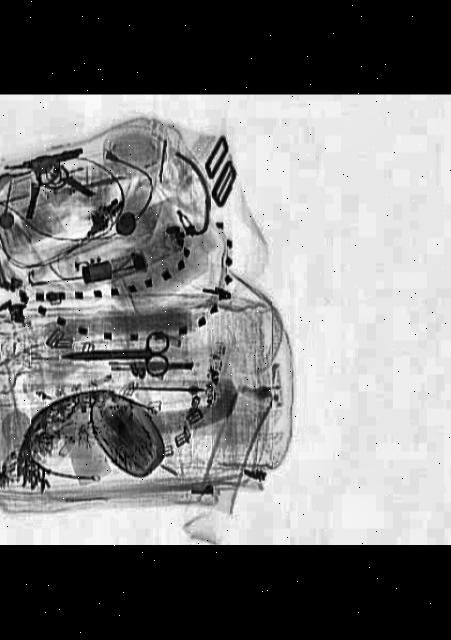Scissors: (61, 335, 169, 378)
